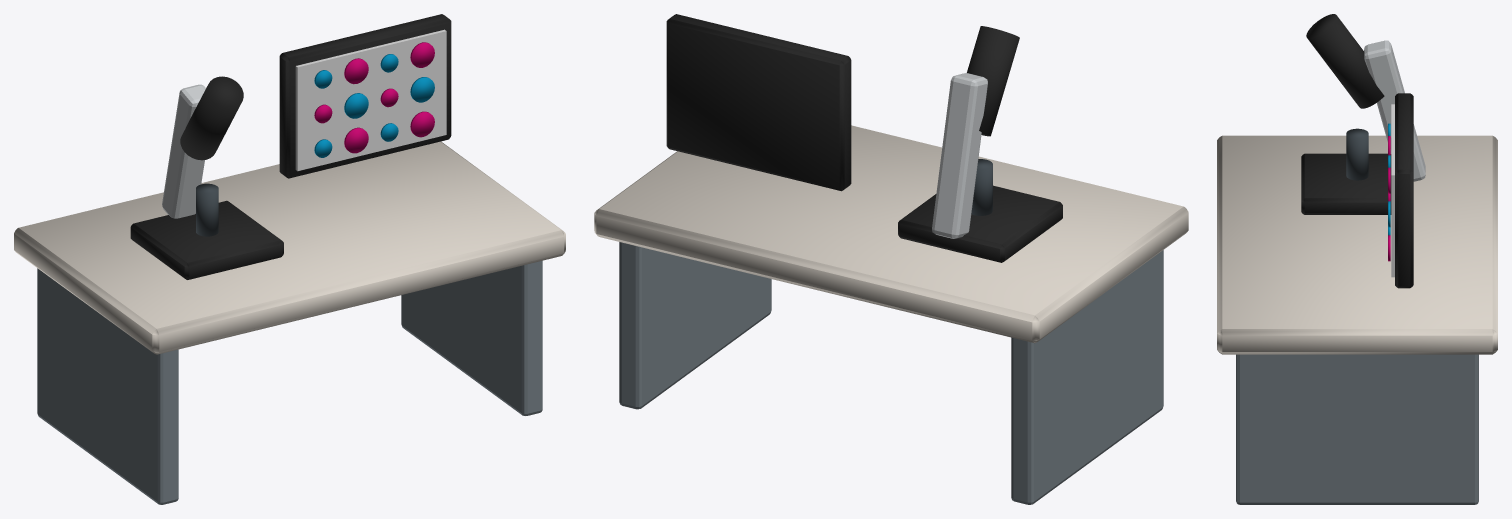
Rendered from m_microscope.glb.
The picture shows the model from 3 angles, left to right: view 1: azimuth 30°, elevation 25°; view 2: azimuth 150°, elevation 25°; view 3: azimuth 270°, elevation 25°; orthographic projection. The views are drawn at different scales.
Visible parts, largest first — view 1: m_microscope; view 2: m_microscope; view 3: m_microscope.
Part boxes in pixels (bbox=[...]): m_microscope: bbox=[14, 14, 565, 504]; m_microscope: bbox=[594, 14, 1188, 504]; m_microscope: bbox=[1217, 14, 1497, 504].
Size of the model in its own units: 0.5 by 0.4226 by 0.3.
